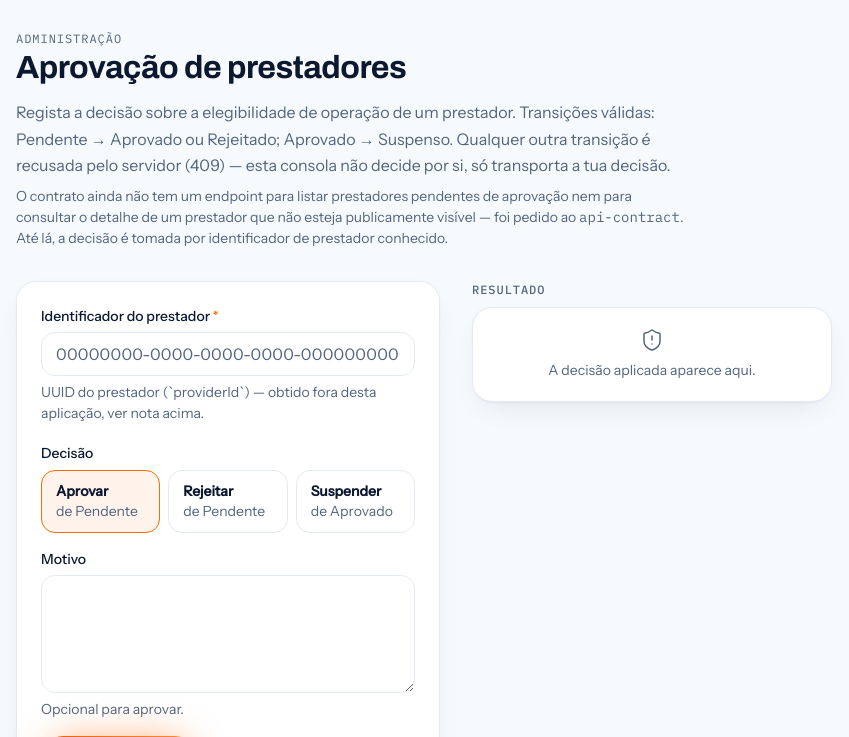
Scenario: AdminProviderApprovalsPage — consola de aprovação (defeito C1) › regista uma aprovação com sucesso e mostra o resultado do servidor
In the field labelled "Identificador do prestador *": (228, 354) [41,332,415,376], type "a419d818-cc7f-4910-a99b-c14cb157f3eb"
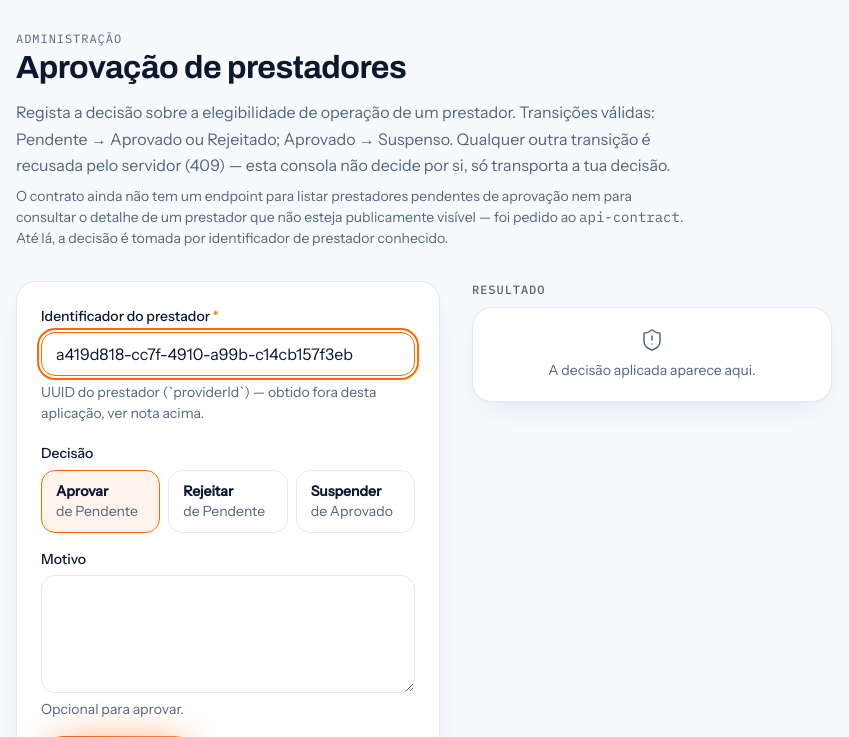
Click the radio button labelled "Aprovar de Pendente": (101, 502) [41,470,160,533]
(page scrolled)
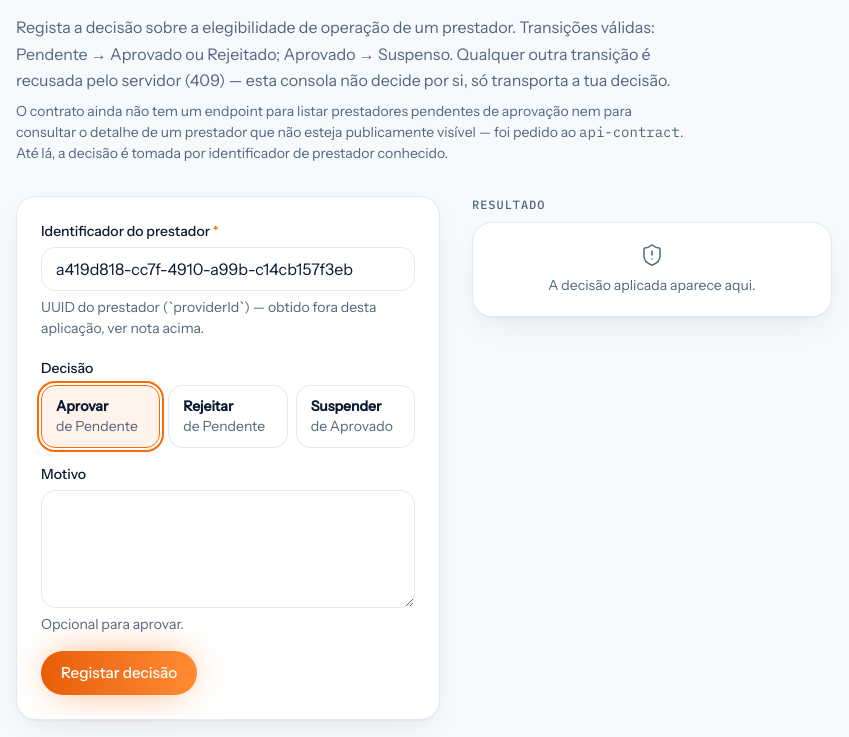
Click the button "Registar decisão": (119, 673) [41,651,197,695]
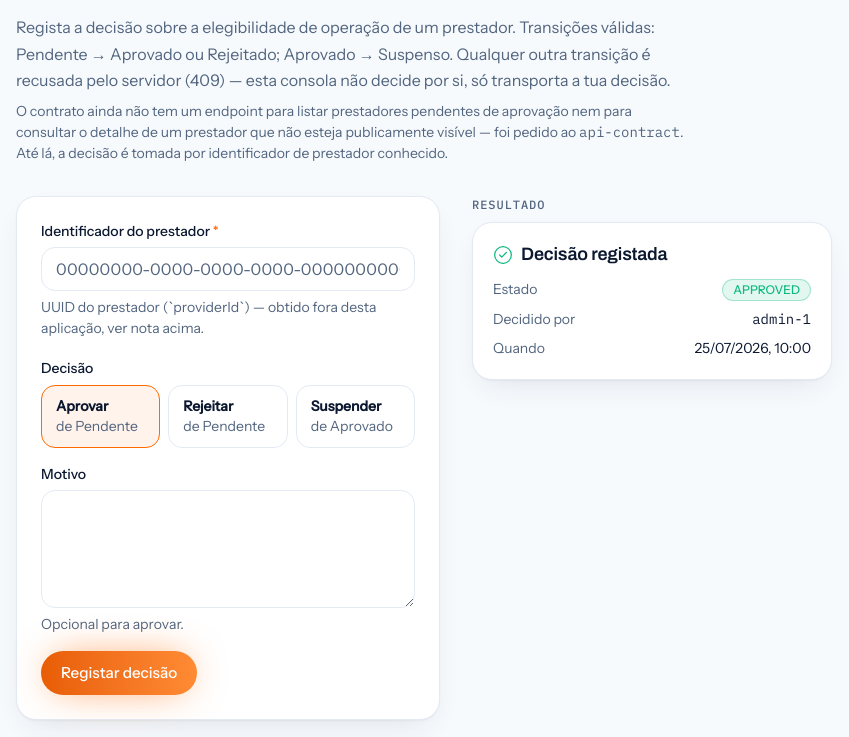
Expected: the text "APPROVED" is shown, [722,279,811,301]
Expected: the text "Decidido por" is shown, [493,309,575,330]
